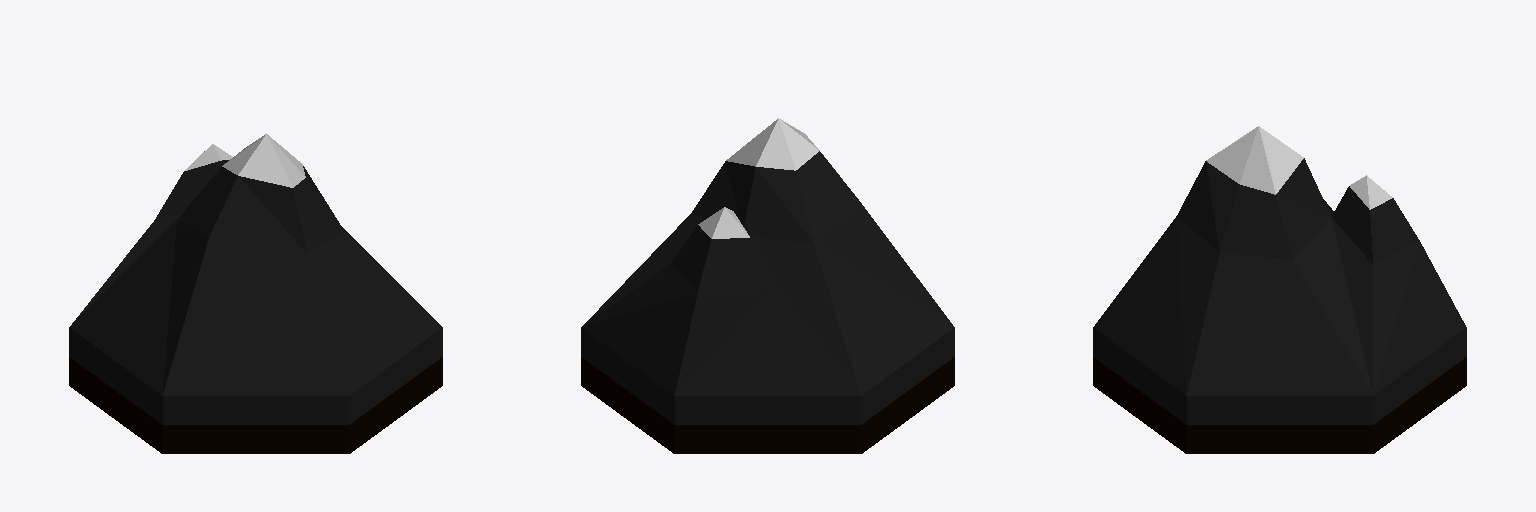
File: mountain.obj
3 renders of one model, left to right at view 1: azimuth 30°, elevation 25°; view 2: azimuth 150°, elevation 25°; view 3: azimuth 270°, elevation 25°, orthographic.
Parts seen in each view (by area): view 1: Hex; view 2: Hex; view 3: Hex.
Boxes of the visible parts, x1=… form: Hex: x1=69, y1=134, x2=442, y2=453; Hex: x1=581, y1=118, x2=954, y2=453; Hex: x1=1093, y1=126, x2=1466, y2=453.
Size of the model in its own units: 1 by 0.8874 by 1.15.